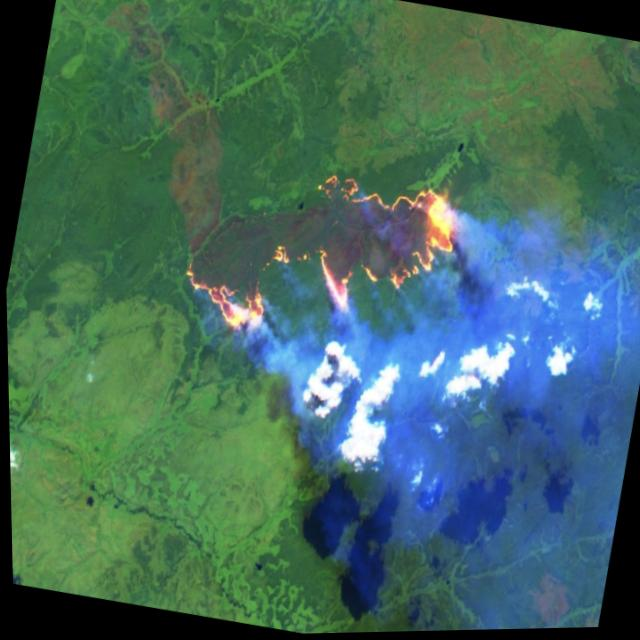fire: (167, 141, 473, 378)
